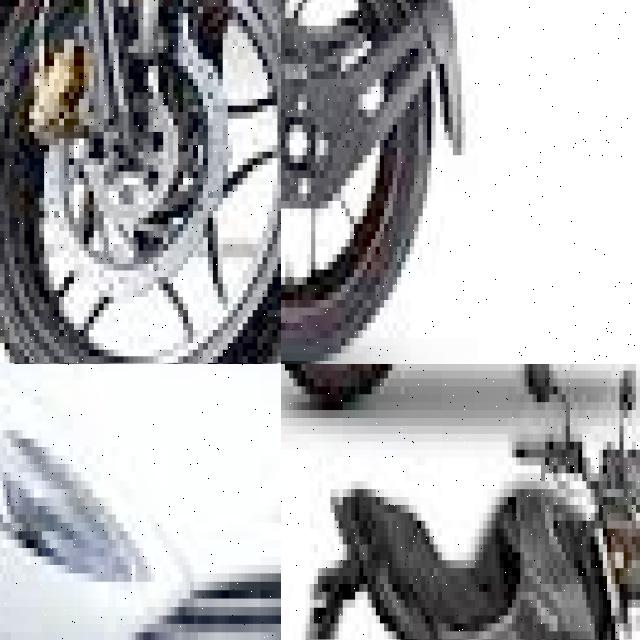bike: (0, 0, 281, 364), (305, 364, 640, 640), (281, 0, 496, 364), (281, 364, 640, 410)
car: (0, 364, 281, 640)
